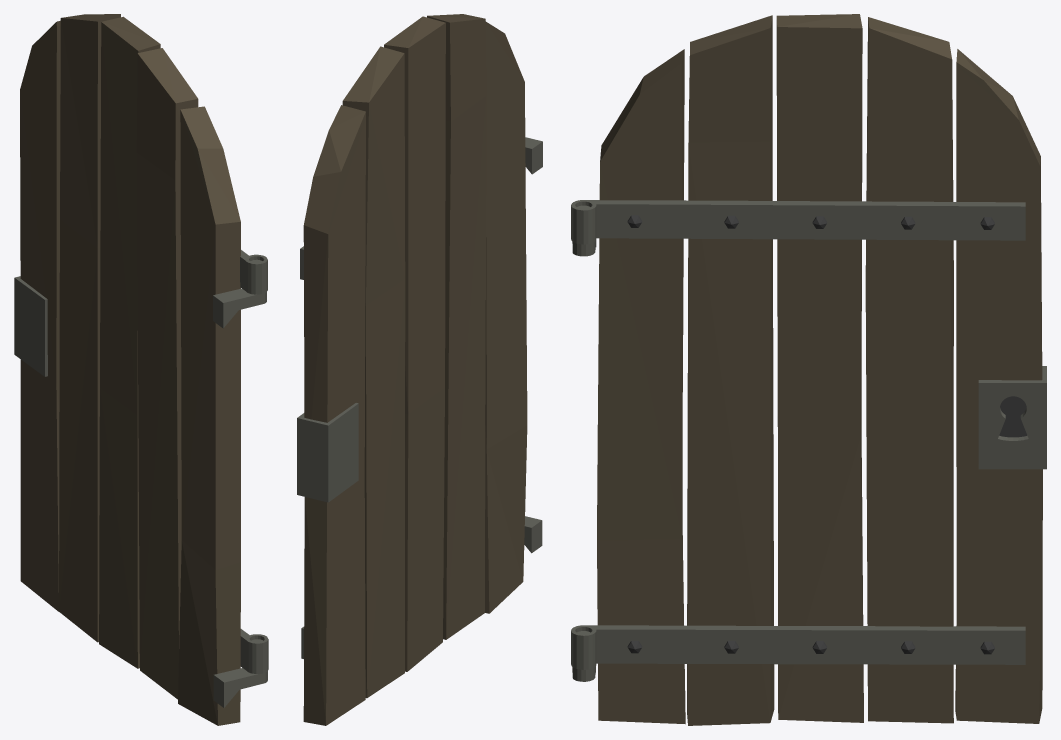
Rendered from Door.glb.
The picture shows the model from 3 angles, left to right: view 1: azimuth 30°, elevation 25°; view 2: azimuth 150°, elevation 25°; view 3: azimuth 270°, elevation 25°; orthographic projection. The views are drawn at different scales.
Parts seen in each view (by area): view 1: Cube; view 2: Cube; view 3: Cube.
Part boxes in pixels (bbox=[...]): Cube: bbox=[14, 14, 268, 725]; Cube: bbox=[297, 14, 542, 725]; Cube: bbox=[571, 14, 1046, 725].
Bounding box in the file's own units: 0.3311 × 4.05 × 2.5.
